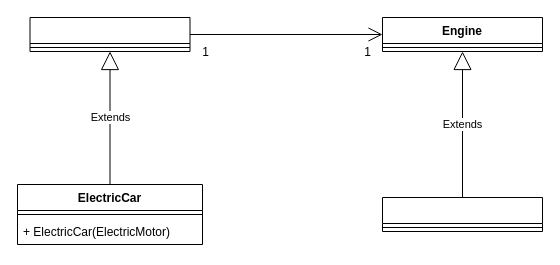
This 560x265 diagram has some shape labels left out. Each missing label, with the centre of its shape:
Car: the point at 109,34
ElectricMotor: the point at 462,214
